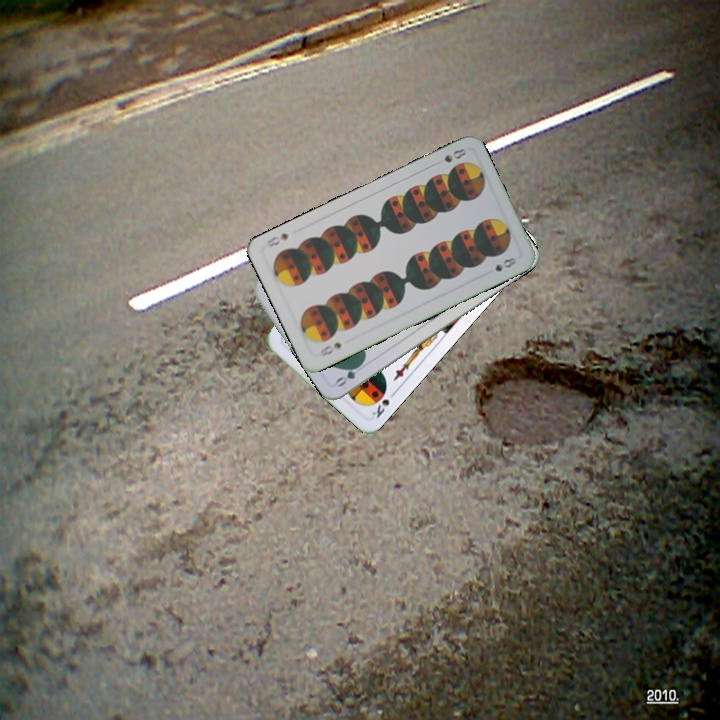GO: (332, 357, 368, 390)
S8: (430, 144, 469, 168), (316, 338, 344, 359)
SK: (367, 387, 399, 421)
